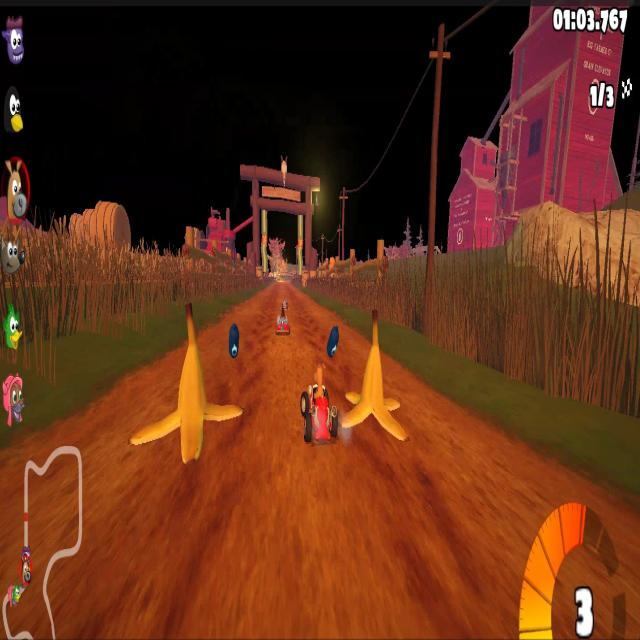enemy_kart: (271, 300, 296, 336)
nitro: (321, 316, 343, 359), (229, 320, 242, 366)
obstacle: (140, 356, 240, 470), (343, 332, 408, 446)
player_kart: (292, 370, 338, 448)
track: (121, 471, 512, 633), (245, 361, 286, 462), (84, 394, 126, 478), (414, 432, 516, 452), (414, 380, 451, 430), (246, 280, 264, 352), (299, 294, 318, 351), (272, 275, 295, 285)
